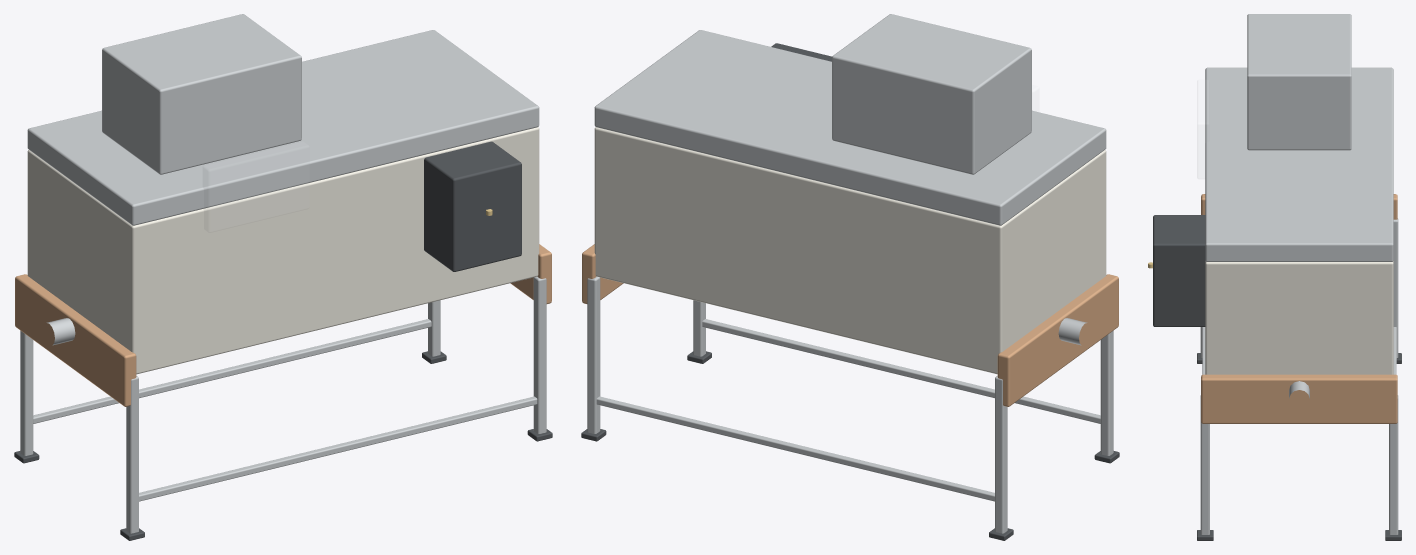
The model's file is chocolate-making-and-confectionery-chocolate-enrober-938589ef__39145.glb.
3 views of the same model, side by side, from view 1: azimuth 30°, elevation 25°; view 2: azimuth 150°, elevation 25°; view 3: azimuth 270°, elevation 25° (orthographic). The views are drawn at different scales.
Parts seen in each view (by area): view 1: chocolate-enrober; view 2: chocolate-enrober; view 3: chocolate-enrober.
Boxes of the visible parts, bbox=[...] form: chocolate-enrober: bbox=[14, 14, 552, 540]; chocolate-enrober: bbox=[581, 14, 1119, 540]; chocolate-enrober: bbox=[1148, 14, 1401, 540].
Size of the model in its own units: 2.3 by 1.95 by 1.21.
